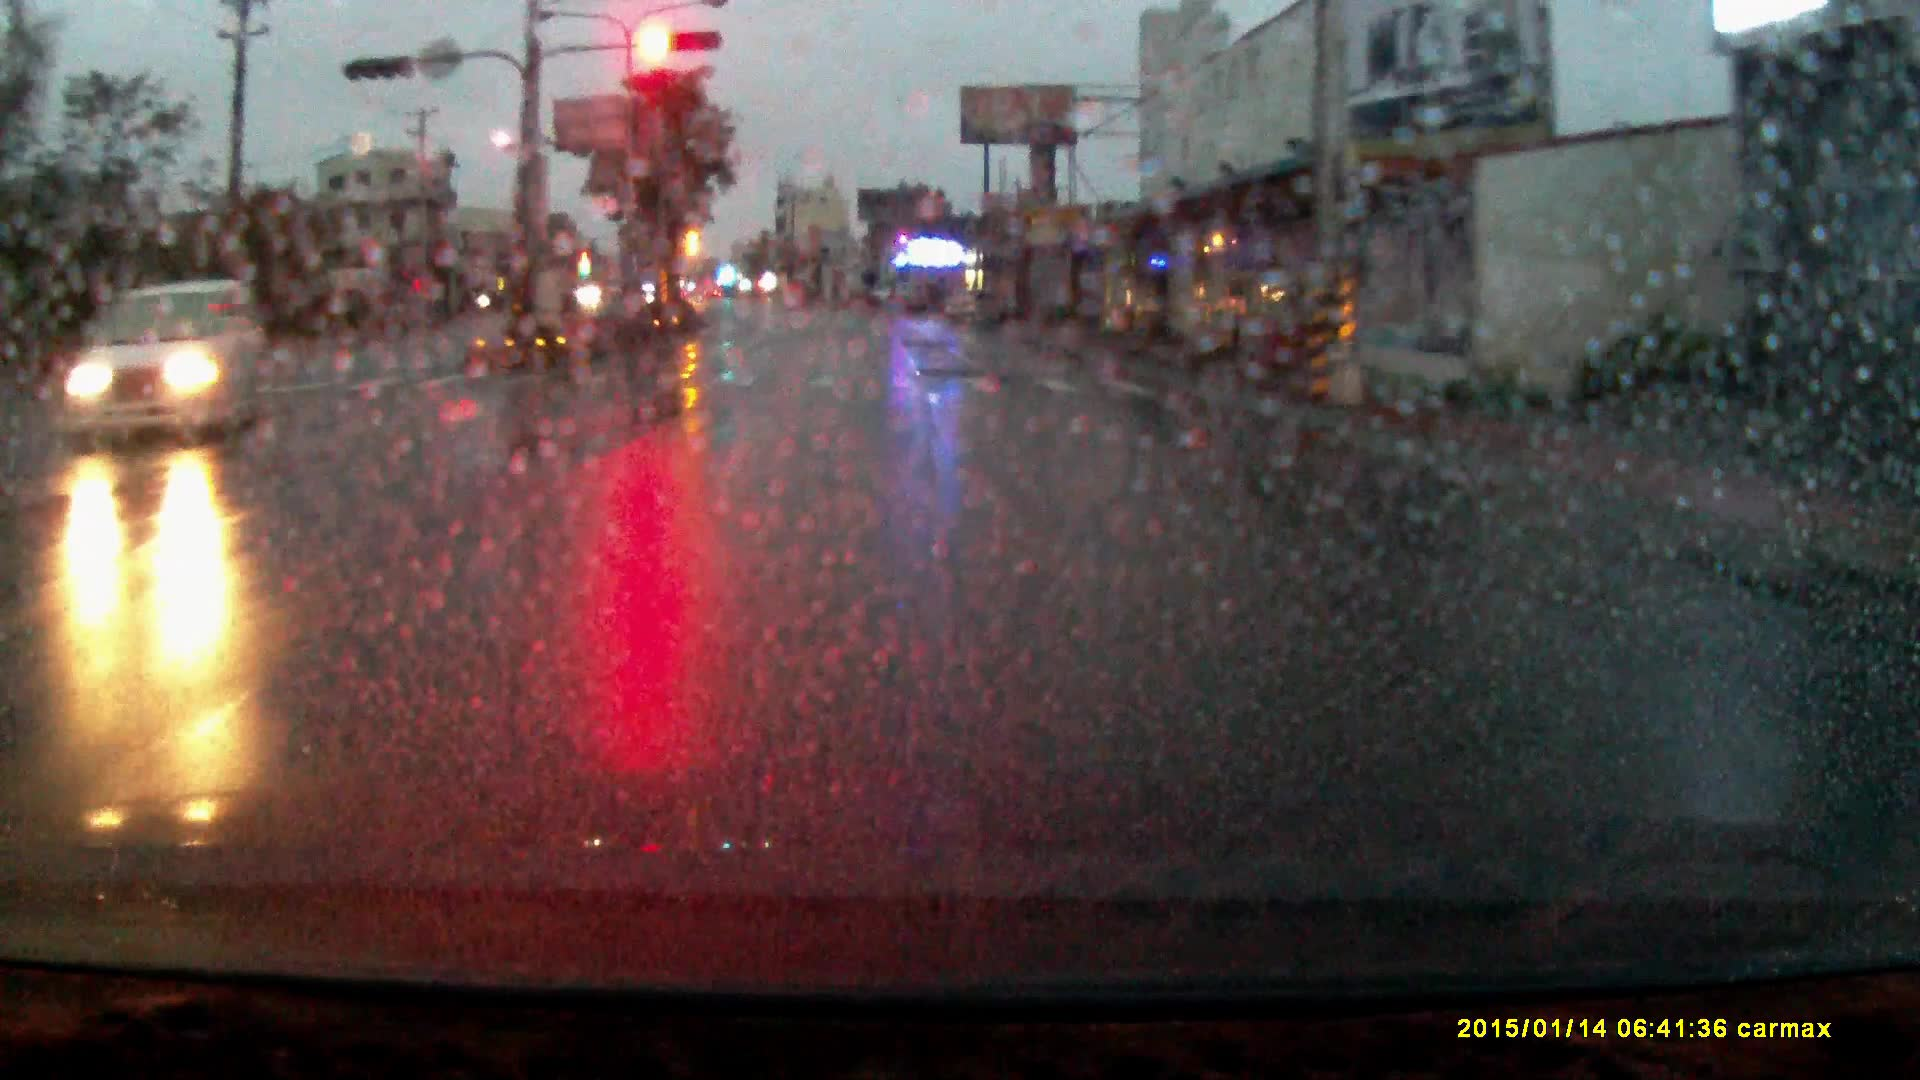vehicle: (57, 281, 266, 450)
